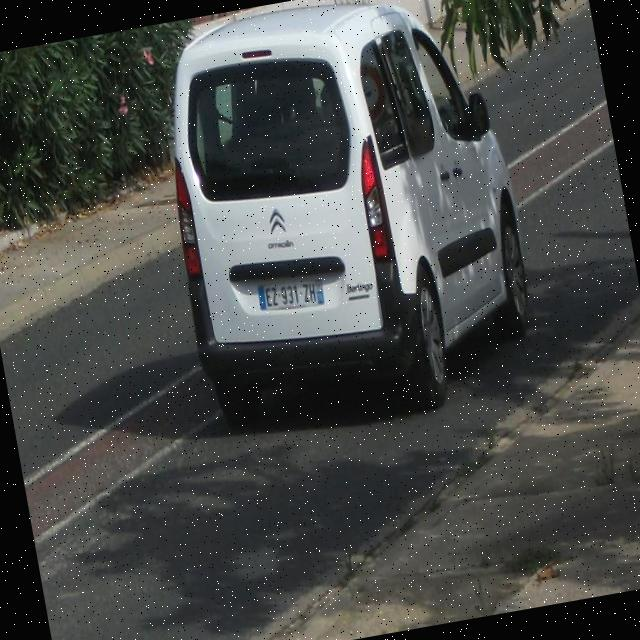EU: (255, 272, 326, 316)
France: (254, 283, 266, 310)
